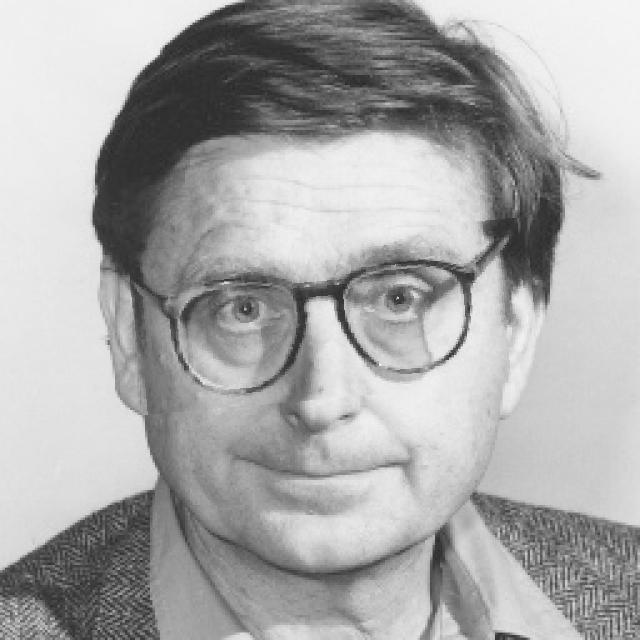glasses: (132, 226, 538, 407)
